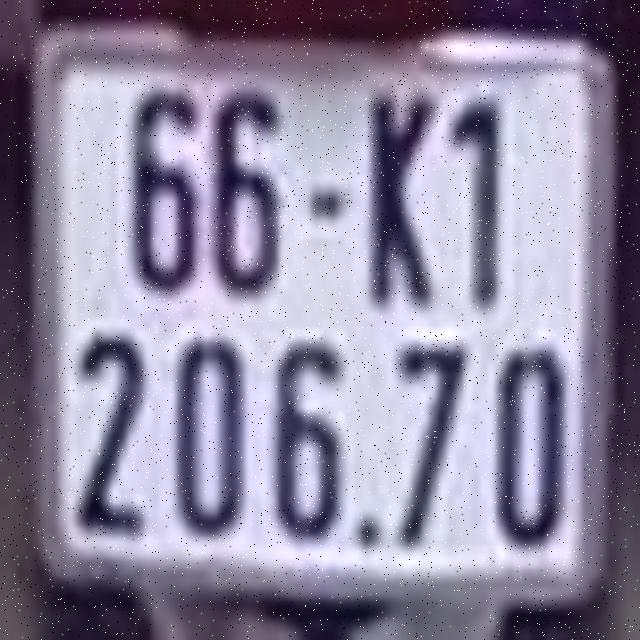0: (173, 333, 246, 536), (495, 341, 565, 546)
1: (450, 96, 506, 309)
2: (76, 334, 148, 536)
6: (272, 335, 344, 540), (212, 87, 282, 295), (129, 84, 199, 292)
7: (390, 335, 468, 550)
K: (366, 91, 436, 312)
